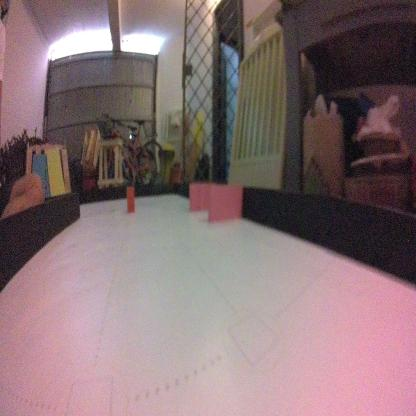magenta: (206, 181, 242, 222), (188, 181, 216, 210)
red: (126, 184, 136, 215)
